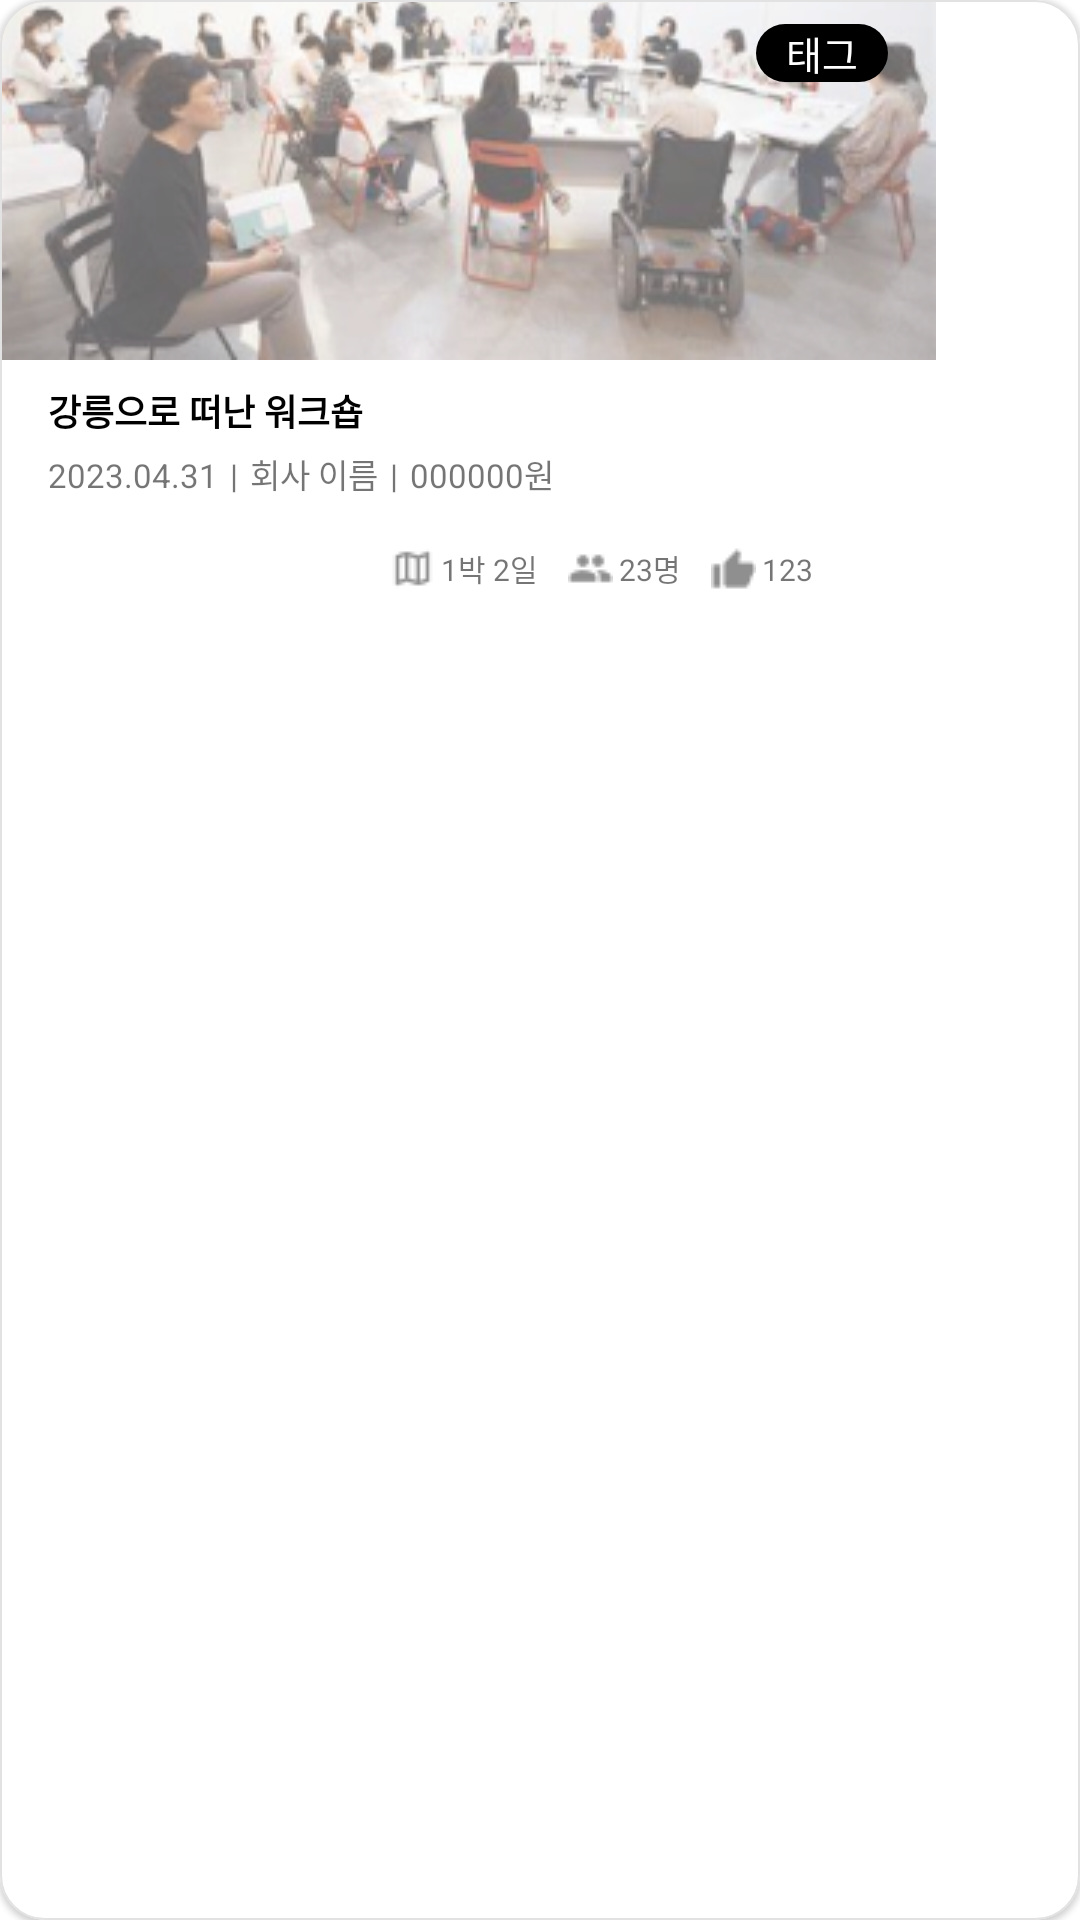

Where to tap for icons on this 1080*1920 app screen, as (x,y):
map: (412,568)
people: (590,568)
thumb up: (733,569)
